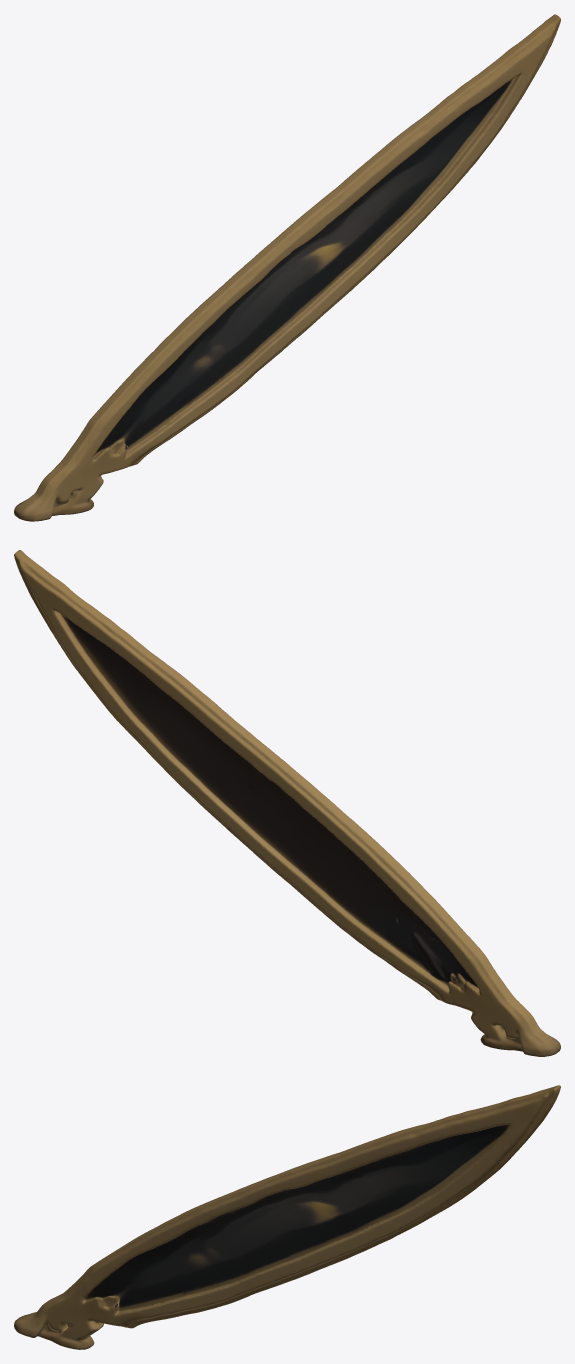
The model's file is ear_single_ref-9.glb.
The picture shows the model from 3 angles, top to bottom: view 1: azimuth 30°, elevation 25°; view 2: azimuth 150°, elevation 25°; view 3: azimuth 330°, elevation 25°; orthographic projection.
Bounding box in the file's own units: 1 × 0.6631 × 0.055.
1 material, 1 textured.
